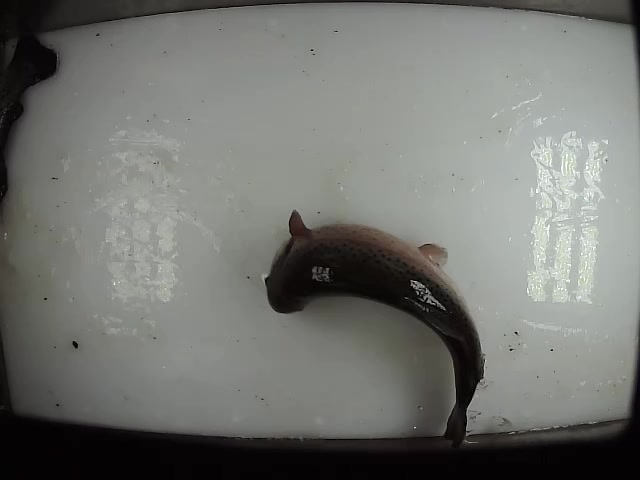fish: (259, 206, 486, 449)
